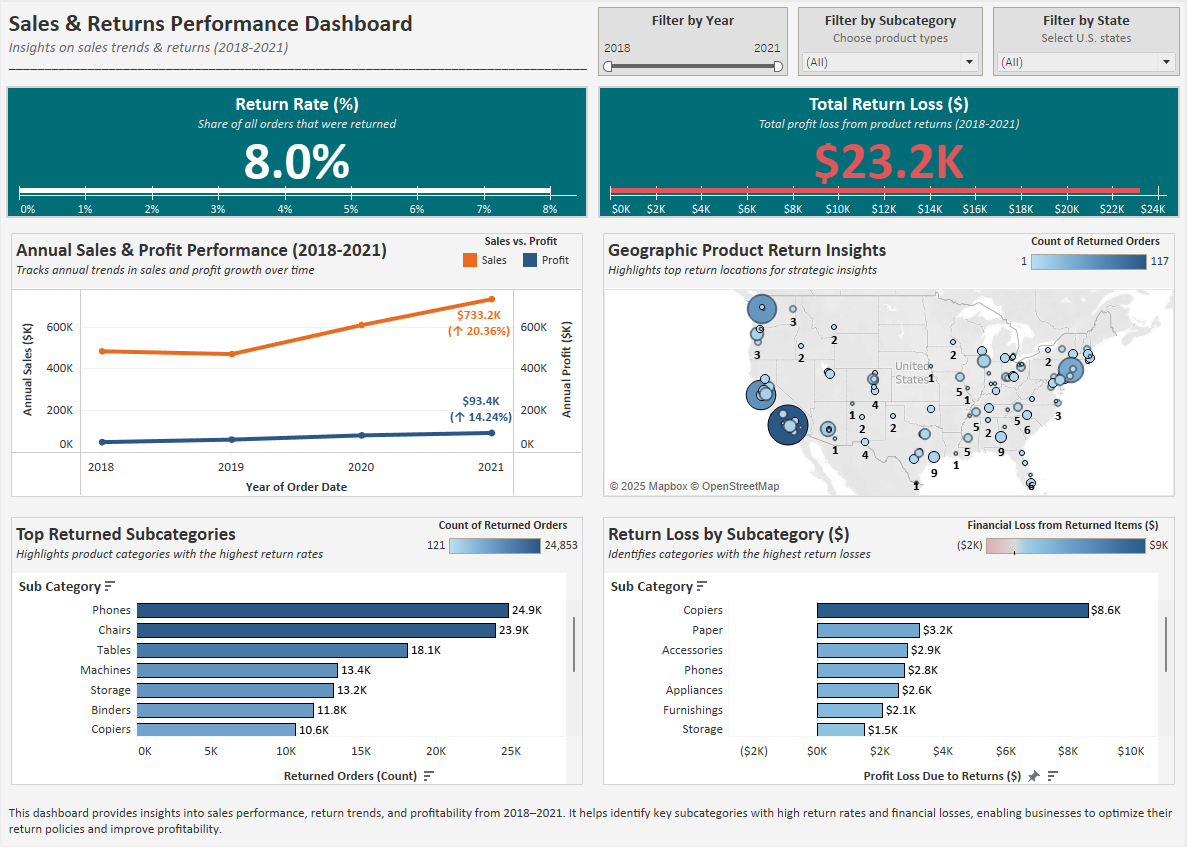

What the dashboard file says about the page in this screenshot:
{"tool":"tableau","page":{"name":"Sales & Returns Performance Dashboard","canvas":[1000,1000],"units":"permille","ordinal":0},"visuals":[{"type":"text","box":[6.7,9.3,493.3,91.9]},{"type":"filter","title":"Sales & Profit Trends","param":"[federated.0secuqe0fz7zjf13dw46g0obr42a].[tyr:Order_Date:qk]","box":[500,9.3,166.6,91.9]},{"type":"filter","title":"Profit Loss by Subcategory","param":"[federated.0secuqe0fz7zjf13dw46g0obr42a].[none:Sub_Category:nk]","box":[666.6,9.3,162.5,91.9]},{"type":"filter","title":"Returns by Region","param":"[federated.0secuqe0fz7zjf13dw46g0obr42a].[none:State:nk]","box":[829.1,9.3,164.2,91.9]},{"type":"worksheet","title":"Returns Rate (%)","mark":"Automatic","box":[6.7,101.2,493.3,165.1]},{"type":"worksheet","title":"Profit Loss Due to Returns ($)","mark":"Automatic","box":[500,101.2,493.3,165.1]},{"type":"worksheet","title":"Returns Rate (%) V.2","mark":"Automatic","cols":["Calculation_863565277383036928"],"box":[21.7,223.3,465,31.4]},{"type":"worksheet","title":"Profit Loss Due to Returns ($) V.2","mark":"Automatic","cols":["Calculation_863565277388726273"],"box":[514.2,223.3,464.2,33.7]},{"type":"worksheet","title":"Sales & Profit Trends","mark":"Automatic","rows":["Sales","Profit"],"cols":["Order_Date"],"box":[6.7,266.2,493.3,330.2]},{"type":"worksheet","title":"Returns by Region","mark":"Automatic","box":[500,266.2,493.3,330.2]},{"type":"legend","title":"Sales & Profit Trends","param":"[federated.0secuqe0fz7zjf13dw46g0obr42a].[:Measure Names]","box":[389.2,279.1,101.7,61.6]},{"type":"legend","title":"Returns by Region","param":"[federated.0secuqe0fz7zjf13dw46g0obr42a].[sum:Calculation_2650649919113859072:qk","box":[853.3,279.1,130.8,61.6]},{"type":"worksheet","title":"Returns by Subcategory","mark":"Automatic","rows":["Sub_Category"],"cols":["Return_Loss"],"box":[6.7,596.5,493.3,334.9]},{"type":"worksheet","title":"Profit Loss by Subcategory","mark":"Automatic","rows":["Sub_Category"],"cols":["Calculation_863565277388726273"],"box":[500,596.5,493.3,334.9]},{"type":"legend","title":"Returns by Subcategory","param":"[federated.0secuqe0fz7zjf13dw46g0obr42a].[sum:Return_Loss:qk]","box":[358.3,609.3,133.3,61.6]},{"type":"legend","title":"Profit Loss by Subcategory","param":"[federated.0secuqe0fz7zjf13dw46g0obr42a].[usr:Calculation_863565277388726273:qk]","box":[800,609.3,183.3,61.6]},{"type":"text","box":[6.7,931.4,986.7,59.3]}]}

Visuals, with their boxes on the dashboard's canvas, which has no fixed pixel size, in thousandths of its width and height (x1, y1, x2, y2). These are canvas units, not pixel positions in the 1187x847 screenshot, which may show the page scaled, cropped or inside an application window:
text: <box>7,9,500,101</box>
"Sales & Profit Trends" filter: <box>500,9,667,101</box>
"Profit Loss by Subcategory" filter: <box>667,9,829,101</box>
"Returns by Region" filter: <box>829,9,993,101</box>
"Returns Rate (%)" worksheet: <box>7,101,500,266</box>
"Profit Loss Due to Returns ($)" worksheet: <box>500,101,993,266</box>
"Returns Rate (%) V.2" worksheet: <box>22,223,487,255</box>
"Profit Loss Due to Returns ($) V.2" worksheet: <box>514,223,978,257</box>
"Sales & Profit Trends" worksheet: <box>7,266,500,596</box>
"Returns by Region" worksheet: <box>500,266,993,596</box>
"Sales & Profit Trends" legend: <box>389,279,491,341</box>
"Returns by Region" legend: <box>853,279,984,341</box>
"Returns by Subcategory" worksheet: <box>7,596,500,931</box>
"Profit Loss by Subcategory" worksheet: <box>500,596,993,931</box>
"Returns by Subcategory" legend: <box>358,609,492,671</box>
"Profit Loss by Subcategory" legend: <box>800,609,983,671</box>
text: <box>7,931,993,991</box>
